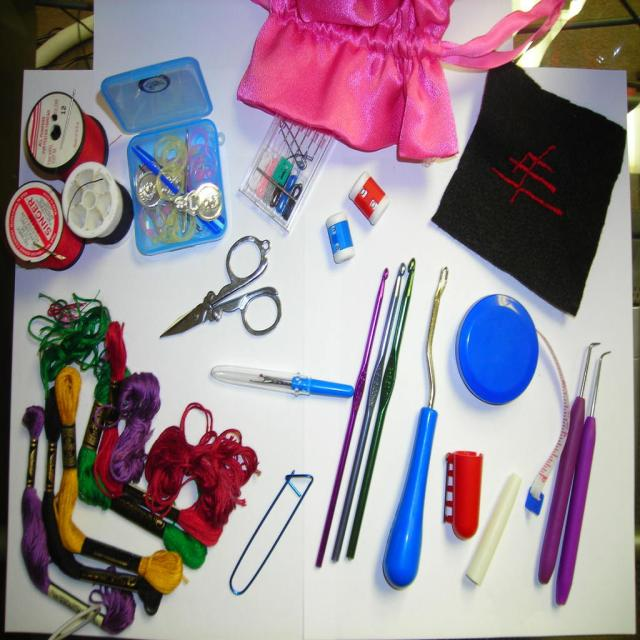scissors: (159, 234, 281, 338)
